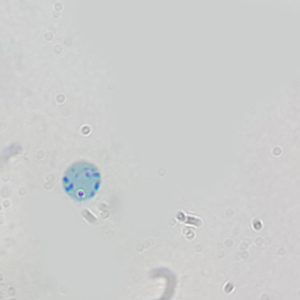aggregate reticulocyte: (60, 159, 103, 203)
